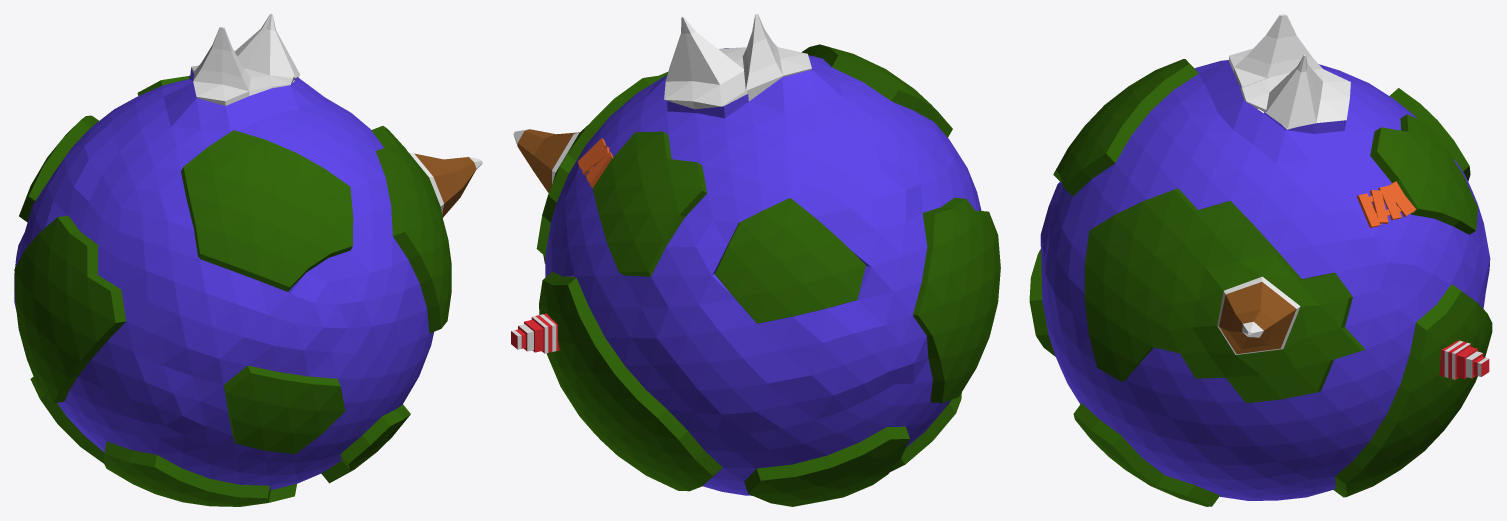
The model's file is justworld.glb.
The picture shows the model from 3 angles, left to right: view 1: azimuth 30°, elevation 25°; view 2: azimuth 150°, elevation 25°; view 3: azimuth 270°, elevation 25°; orthographic projection. The views are drawn at different scales.
Parts seen in each view (by area): view 1: Icosphere; view 2: Icosphere, Cube.001, Cube.002; view 3: Icosphere, Cube.002, Cube.001.
Part boxes in pixels (bbox=[...]): Icosphere: bbox=[14, 14, 482, 506]; Icosphere: bbox=[513, 14, 1000, 506]; Cube.001: bbox=[511, 313, 559, 353]; Cube.002: bbox=[577, 138, 613, 187]; Icosphere: bbox=[1029, 14, 1492, 506]; Cube.002: bbox=[1356, 181, 1416, 227]; Cube.001: bbox=[1439, 340, 1489, 379].
Bounding box in the file's own units: 2.41 × 2.36 × 2.08.
